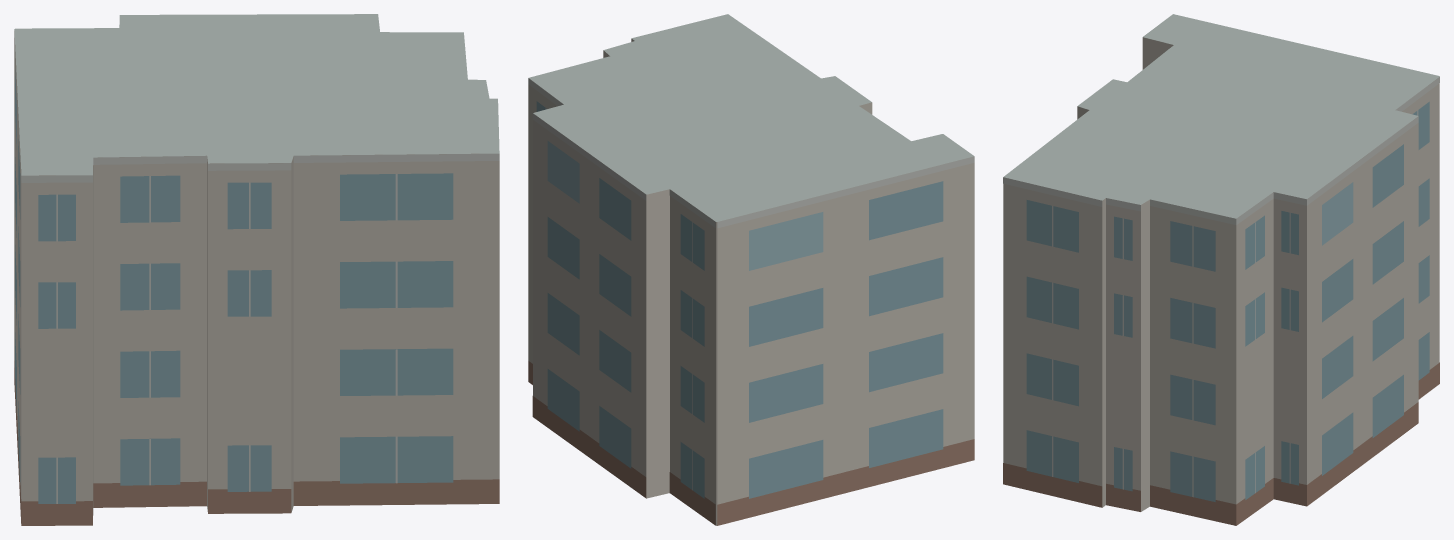
The model's file is survey-upis-33004523.glb.
3 views of the same model, side by side, from view 1: azimuth 30°, elevation 25°; view 2: azimuth 150°, elevation 25°; view 3: azimuth 270°, elevation 25° (orthographic). The views are drawn at different scales.
Parts seen in each view (by area): view 1: survey-upis-33004523.tmp; view 2: survey-upis-33004523.tmp; view 3: survey-upis-33004523.tmp.
Part boxes in pixels (bbox=[...]): survey-upis-33004523.tmp: bbox=[14, 14, 499, 525]; survey-upis-33004523.tmp: bbox=[528, 14, 974, 525]; survey-upis-33004523.tmp: bbox=[1003, 14, 1439, 525].
Bounding box in the file's own units: 16.5 × 11.54 × 14.88.
